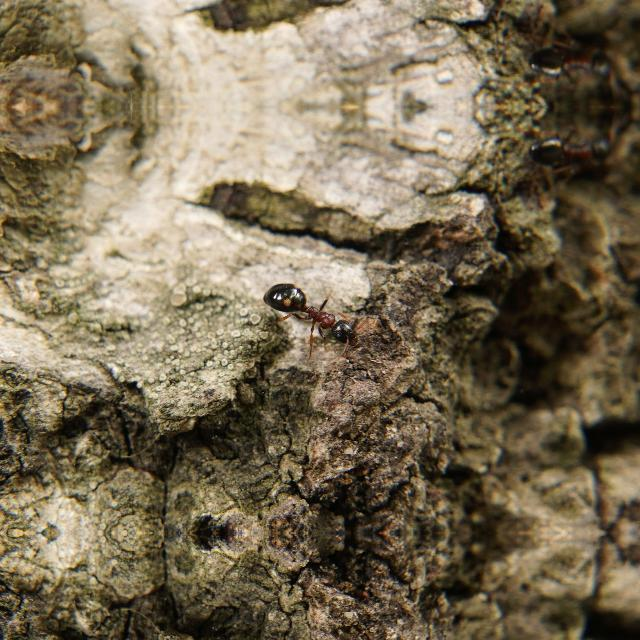Dolichoderus: (248, 274, 380, 354), (509, 118, 635, 178), (509, 34, 635, 94)
